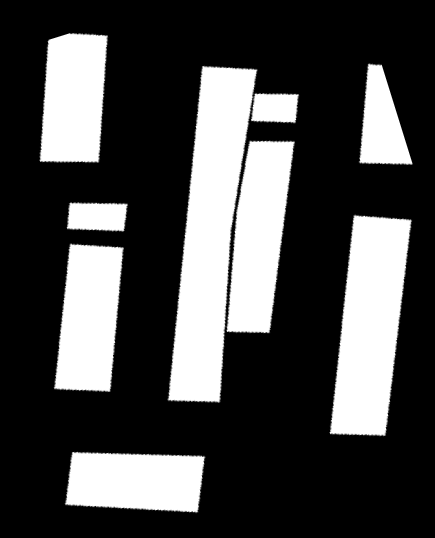parkingspot: (168, 66, 257, 403), (330, 215, 412, 436), (227, 141, 295, 333), (54, 244, 124, 392), (40, 33, 108, 163), (65, 452, 205, 513), (359, 64, 412, 165), (67, 202, 128, 231), (251, 93, 299, 123)
